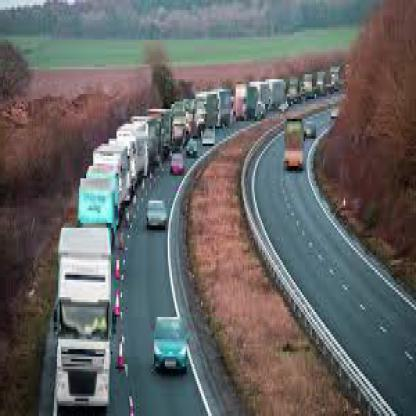car: (154, 318, 188, 370), (148, 202, 169, 229), (171, 150, 187, 177), (202, 127, 216, 147), (306, 120, 317, 142), (188, 140, 199, 160), (331, 105, 341, 120)
truck: (58, 229, 115, 414), (80, 180, 119, 227), (284, 120, 305, 169), (235, 83, 259, 125), (148, 120, 163, 182), (135, 125, 148, 179), (219, 90, 234, 127), (270, 81, 287, 113), (175, 103, 186, 152), (188, 100, 199, 140), (317, 73, 333, 98), (207, 95, 218, 130), (289, 78, 302, 105), (334, 70, 345, 93), (305, 73, 313, 100)
